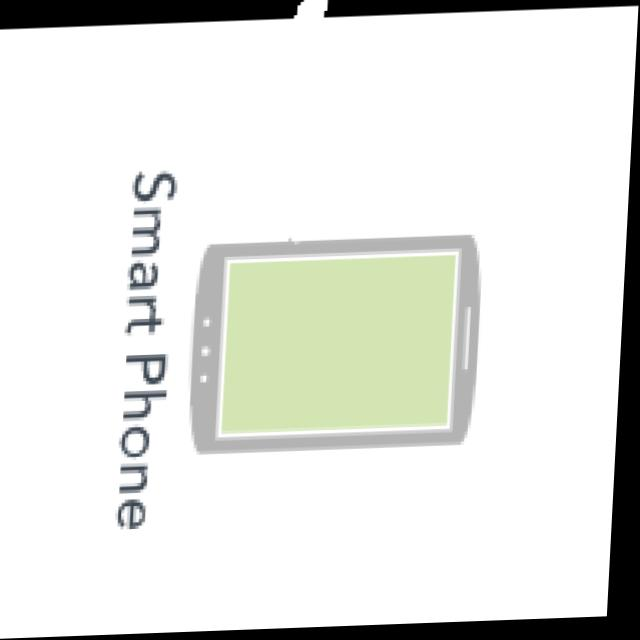Client: (174, 195, 506, 516)
